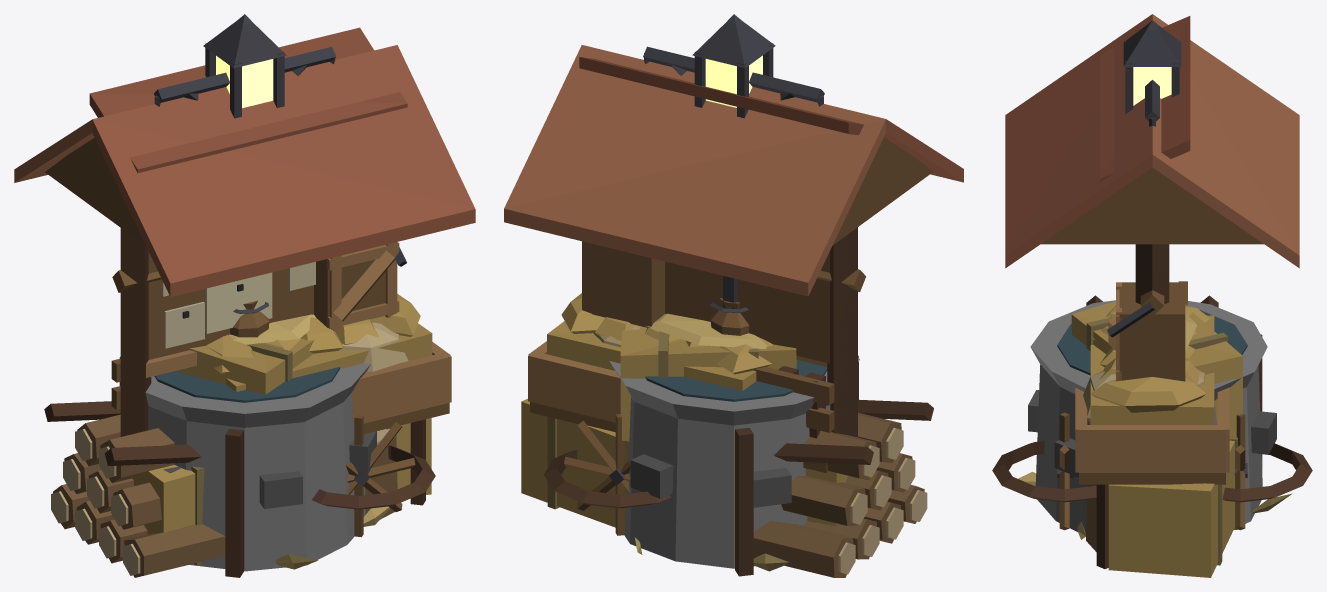
The model's file is town_clutter.glb.
3 renders of one model, left to right at view 1: azimuth 30°, elevation 25°; view 2: azimuth 150°, elevation 25°; view 3: azimuth 270°, elevation 25°, orthographic. The views are drawn at different scales.
Parts seen in each view (by area): view 1: town_well_a, town_notice_board_a, town_woodpile_a, town_handcart_a, town_handcart_b, town_hay_bales_b, town_street_lamp_a, town_street_lamp_b, town_hay_bales_a; view 2: town_well_a, town_woodpile_a, town_notice_board_a, town_hay_bales_b, town_handcart_a, town_handcart_b, town_street_lamp_a, town_street_lamp_b, town_bench_a; view 3: town_well_a, town_handcart_a, town_hay_bales_b, town_handcart_b, town_notice_board_a, town_street_lamp_a, town_woodpile_a, town_street_lamp_b, town_hay_bales_a.
Boxes of the visible parts, left/top/right/bottom form: town_well_a: left=14, top=45, right=475, bottom=571; town_notice_board_a: left=89, top=27, right=407, bottom=436; town_woodpile_a: left=51, top=356, right=397, bottom=577; town_handcart_a: left=44, top=322, right=451, bottom=537; town_handcart_b: left=206, top=242, right=432, bottom=391; town_hay_bales_b: left=132, top=314, right=431, bottom=565; town_street_lamp_a: left=203, top=14, right=286, bottom=118; town_street_lamp_b: left=154, top=47, right=335, bottom=106; town_hay_bales_a: left=275, top=506, right=388, bottom=569; town_well_a: left=504, top=45, right=963, bottom=568; town_woodpile_a: left=735, top=355, right=927, bottom=577; town_notice_board_a: left=579, top=57, right=863, bottom=433; town_hay_bales_b: left=521, top=313, right=847, bottom=527; town_handcart_a: left=528, top=326, right=933, bottom=535; town_handcart_b: left=547, top=241, right=772, bottom=390; town_street_lamp_a: left=692, top=14, right=775, bottom=118; town_street_lamp_b: left=643, top=46, right=824, bottom=308; town_bench_a: left=753, top=369, right=834, bottom=473; town_well_a: left=1005, top=14, right=1299, bottom=533; town_handcart_a: left=992, top=295, right=1312, bottom=568; town_hay_bales_b: left=1071, top=301, right=1291, bottom=577; town_handcart_b: left=1090, top=282, right=1214, bottom=424; town_notice_board_a: left=1100, top=16, right=1190, bottom=304; town_street_lamp_a: left=1123, top=20, right=1181, bottom=113; town_woodpile_a: left=1086, top=334, right=1262, bottom=551; town_street_lamp_b: left=1145, top=80, right=1159, bottom=126; town_hay_bales_a: left=1018, top=472, right=1292, bottom=535.
Size of the model in its own units: 1.6 by 2.22 by 1.35.
